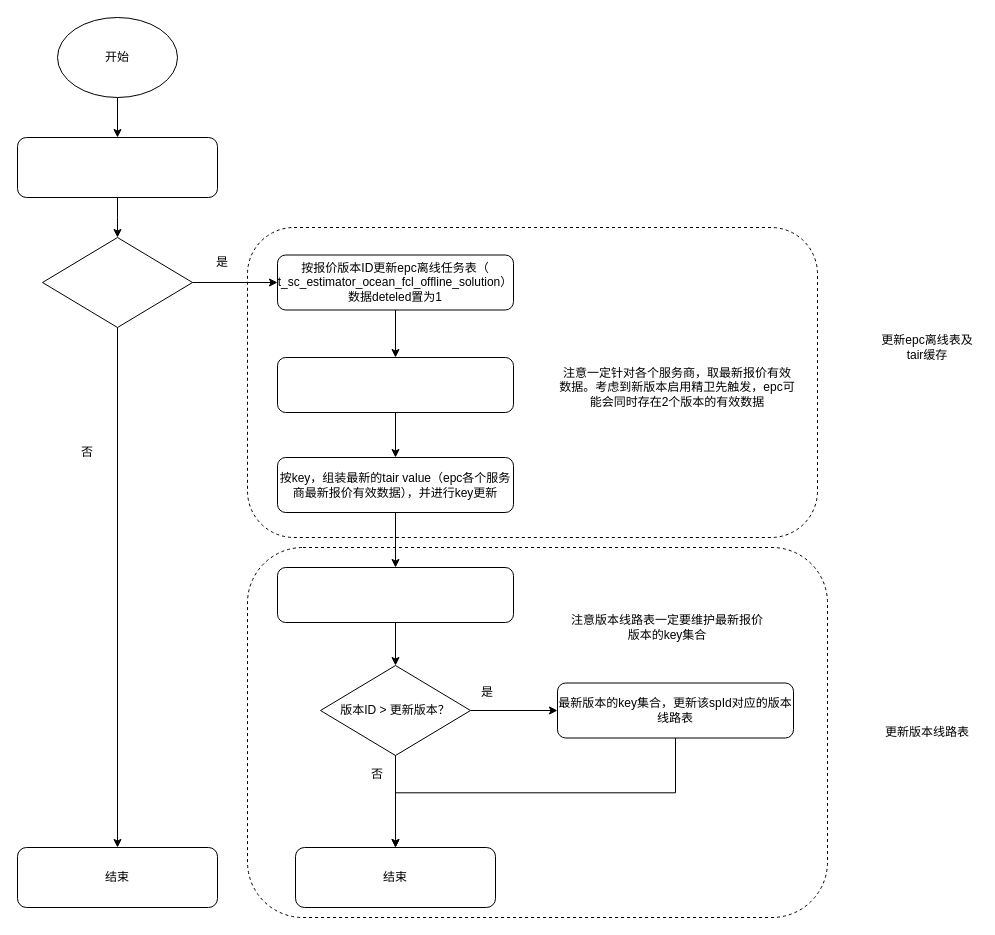
The diagram is 995 pixels wide and 935 high, and some of its shapes have lost their labels. The shapes that lost their labels are listed below. From the top down, each one's centre as x and y in pixels, then its label:
the point at 117,167: 报价版本status置为【已失效】后触发精卫任务
the point at 117,282: 是否epc白名单
the point at 395,384: 按报价版本ID，从离线表找到所有数据 （组装key集合 ）
the point at 395,594: 查找该spId对应的版本线路表
